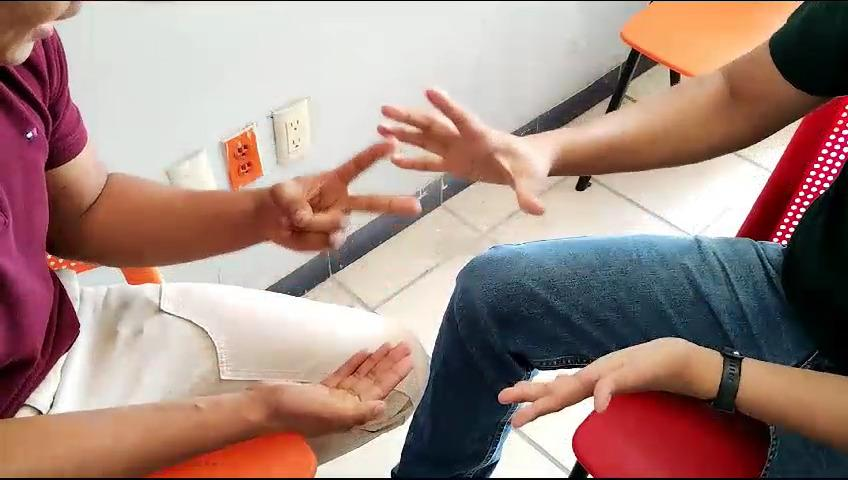Paper: (363, 77, 560, 222)
Scissor: (243, 121, 432, 260)
